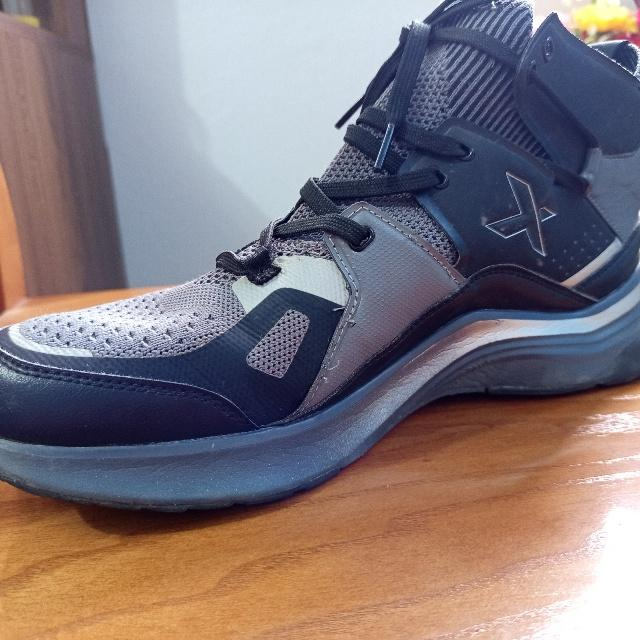broken-error: (318, 359, 344, 385)
